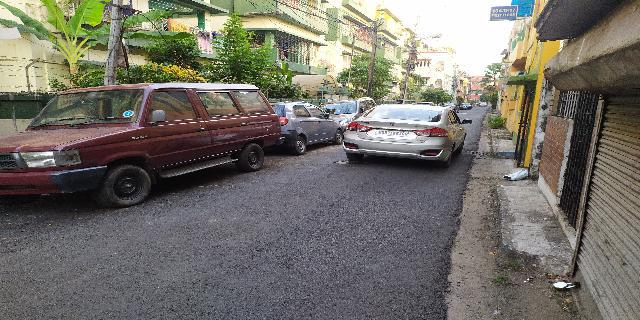Car: (3, 76, 277, 207), (344, 97, 471, 173), (273, 100, 347, 155)
